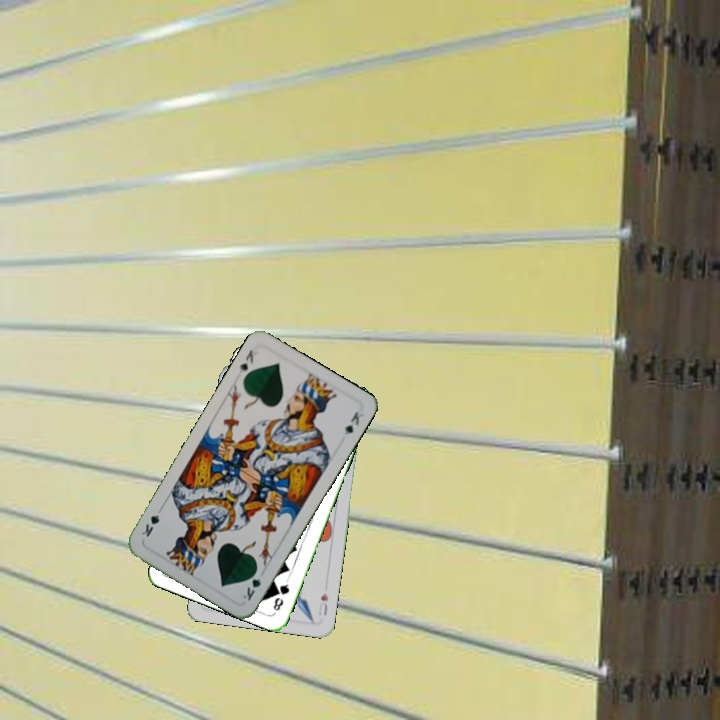G8: (269, 576, 292, 614)
GK: (239, 565, 263, 604), (234, 346, 256, 376)
HU: (314, 589, 331, 618)
